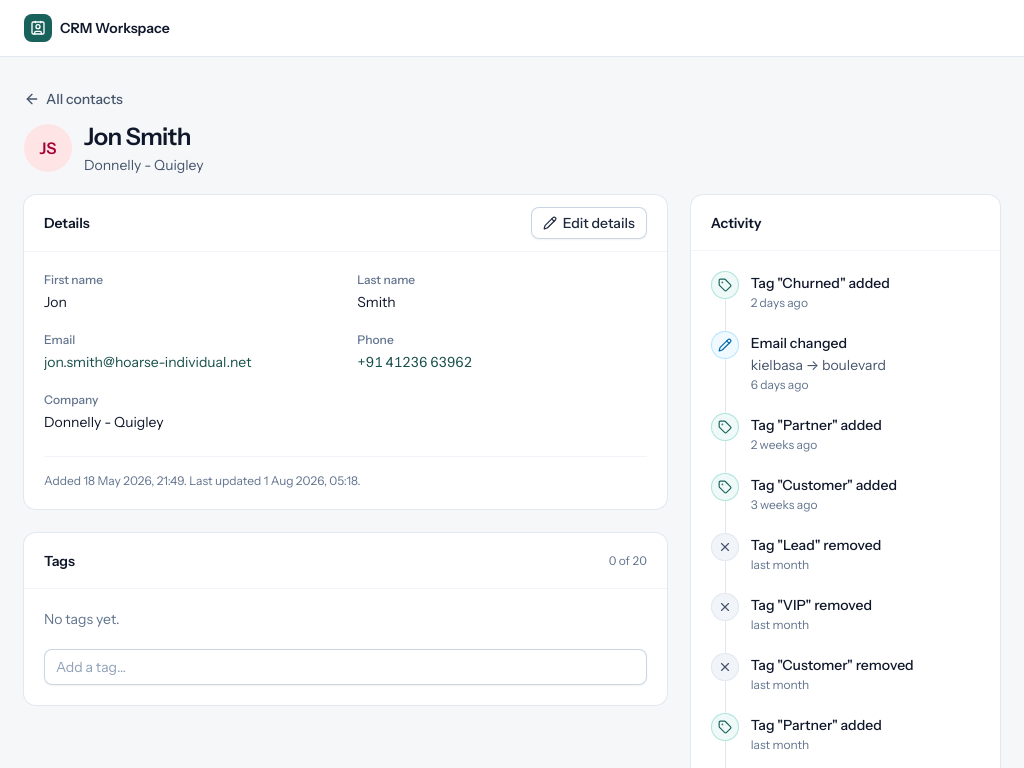
it: ConflictDialog flow › can discard my edit and show the latest
Click the button "Edit details" at point(589, 223), box [531,207,647,239]
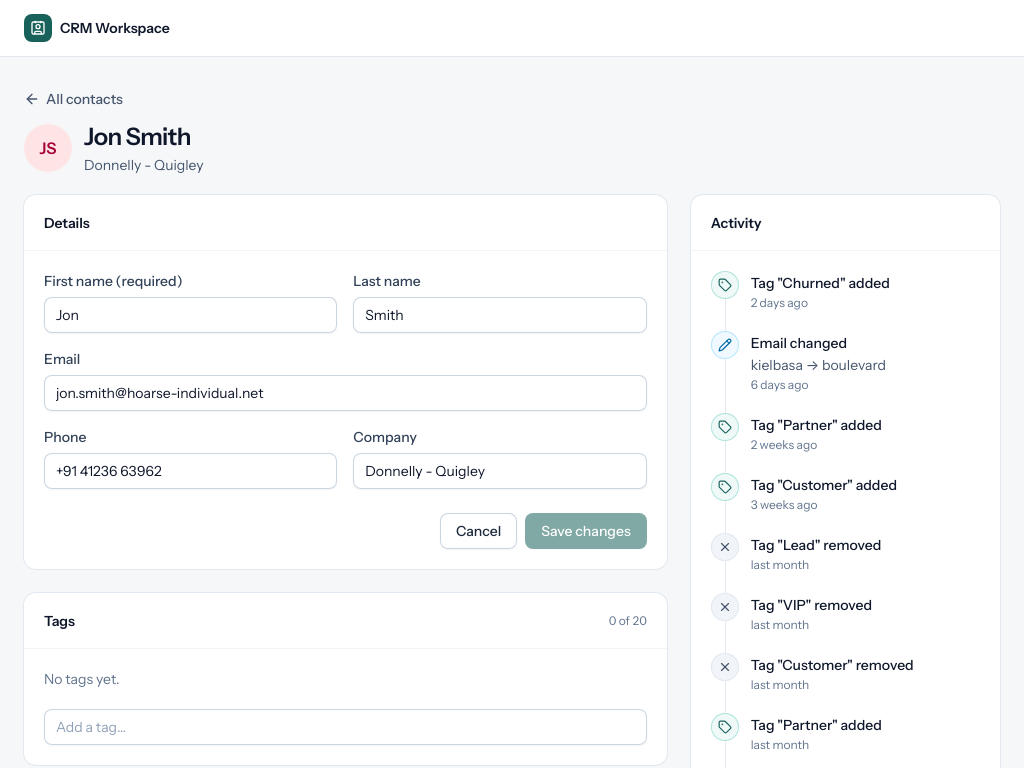
Replace the text in the field labelled "Email" with "mine@example.com" at point(345, 393), box [44,375,647,411]
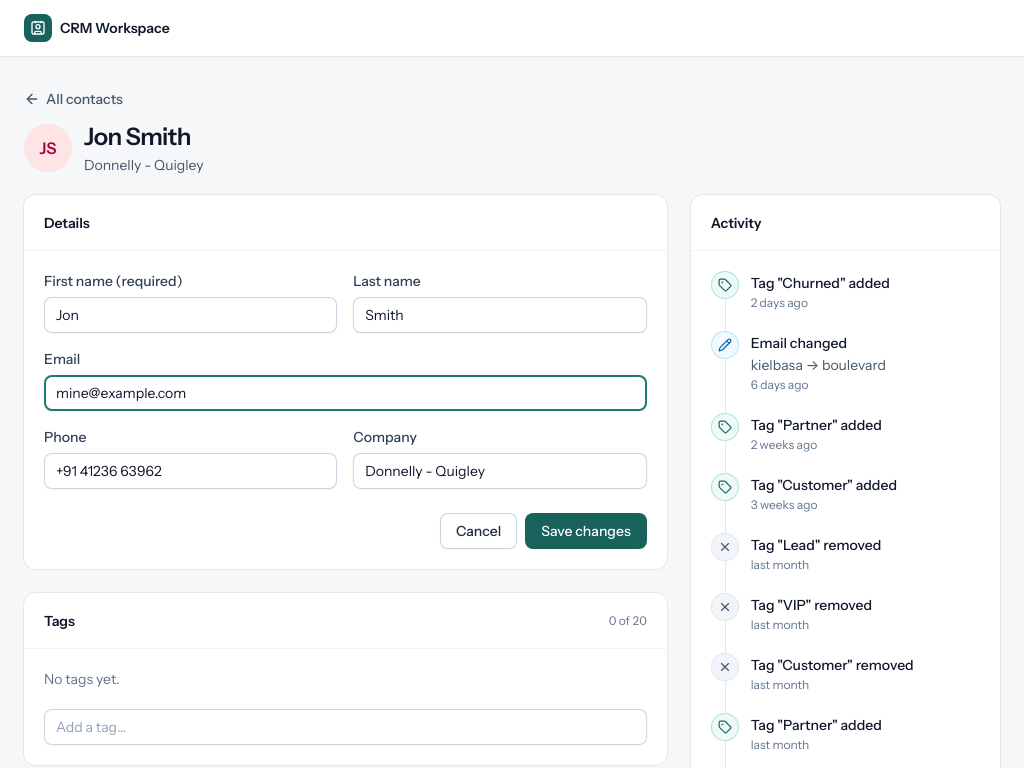
Click the button "Save changes" at point(586, 531), box [525,513,647,549]
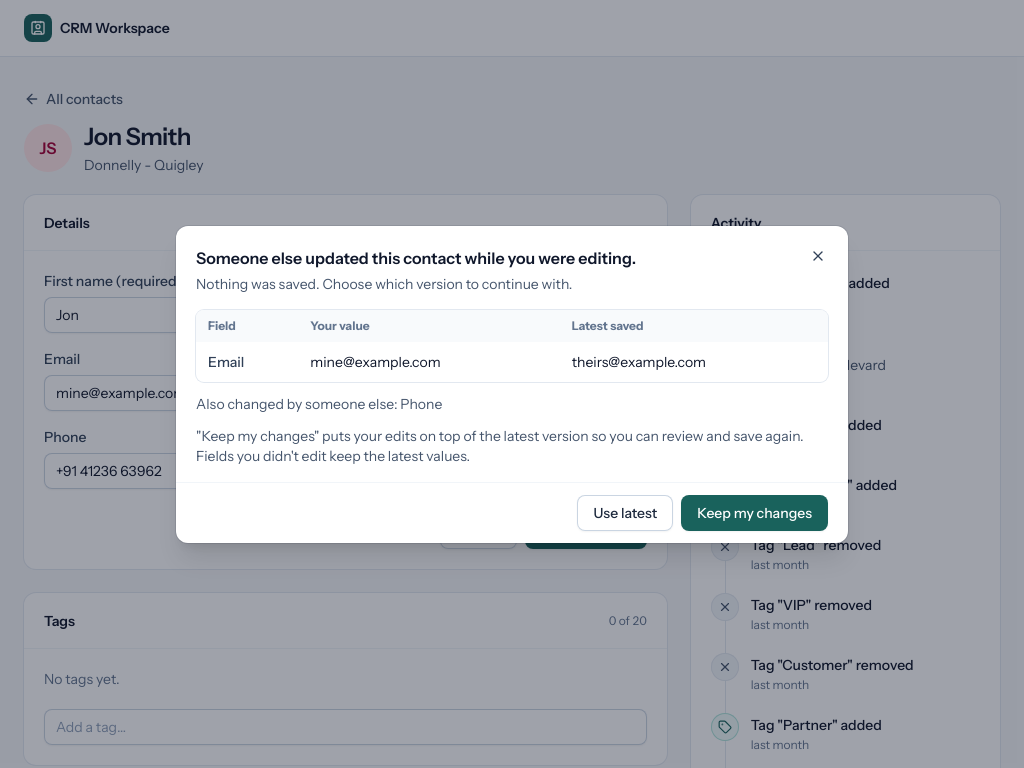
Click the button "Use latest" at point(625, 512), box [578,494,673,530]
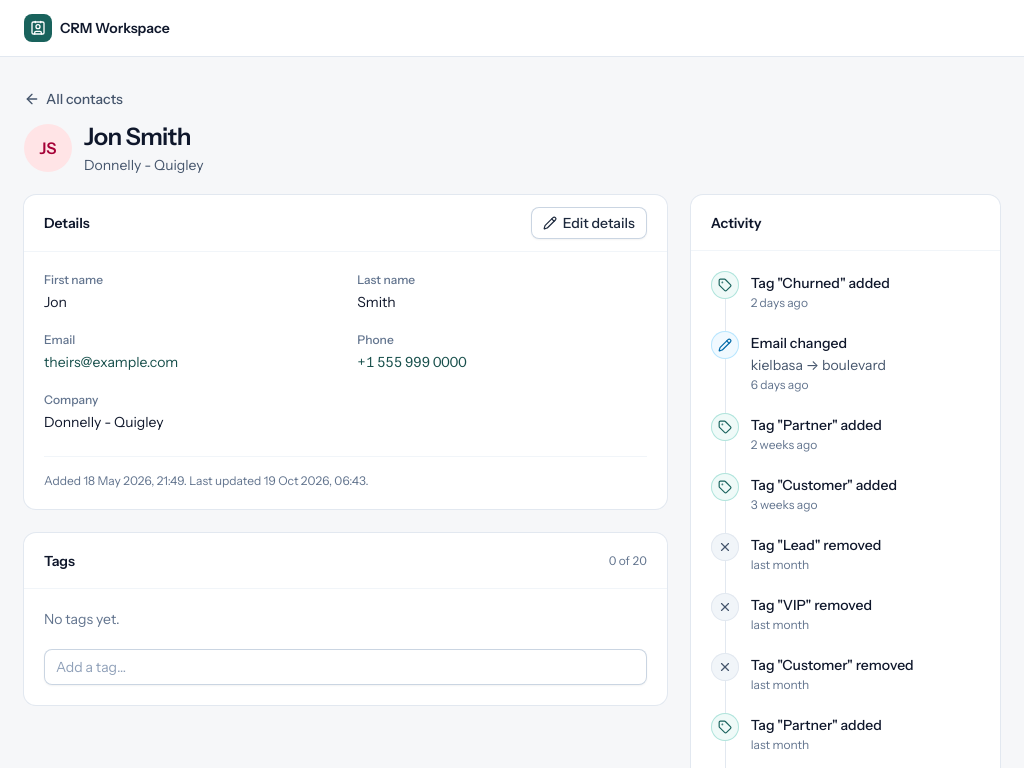
Check: the link "theirs@example.com" is shown, box [44,353,178,371]
Check: the dialog is gone
Check: the button "Save changes" is gone
